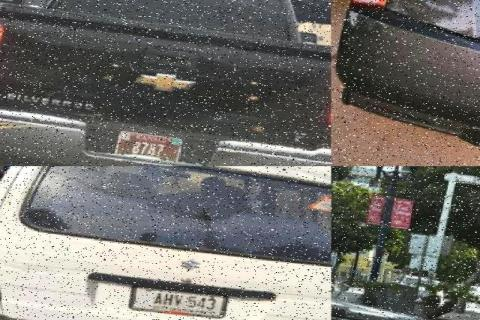LicensePlate: (131, 282, 228, 320), (112, 128, 181, 160)
